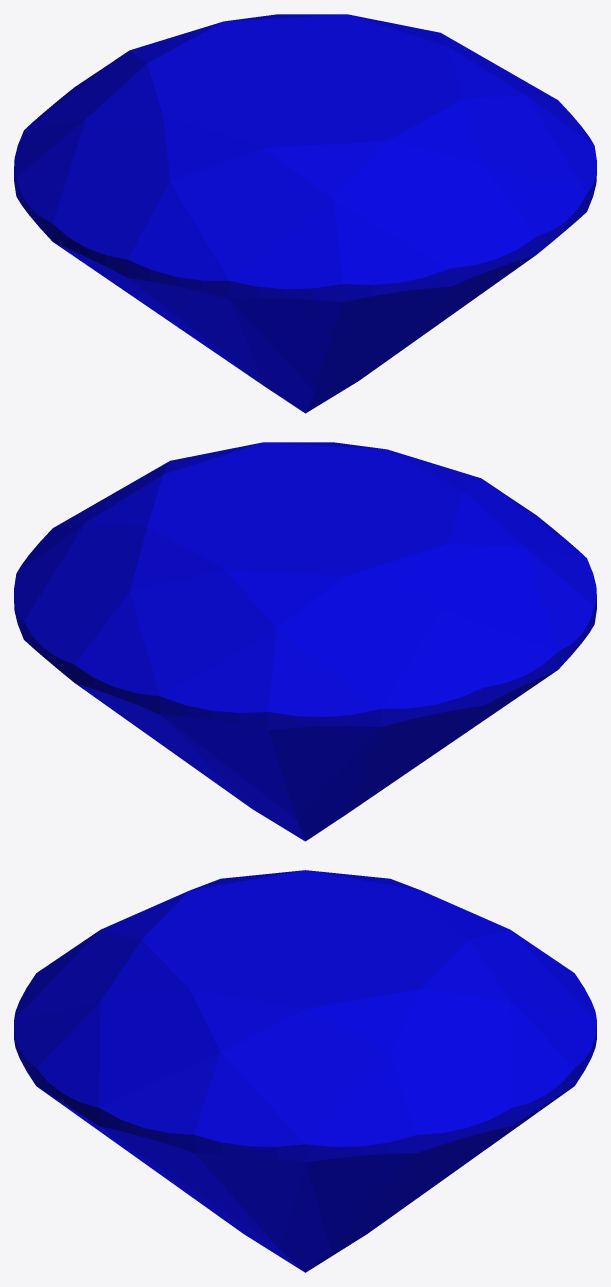
Rendered from Head_No Halo_Round_1.0ct_Diamond.glb.
3 views of the same model, one above another, from view 1: azimuth 30°, elevation 25°; view 2: azimuth 150°, elevation 25°; view 3: azimuth 270°, elevation 25° (orthographic).
Bounding box in the file's own units: 0.00645 × 0.00405 × 0.00642.
